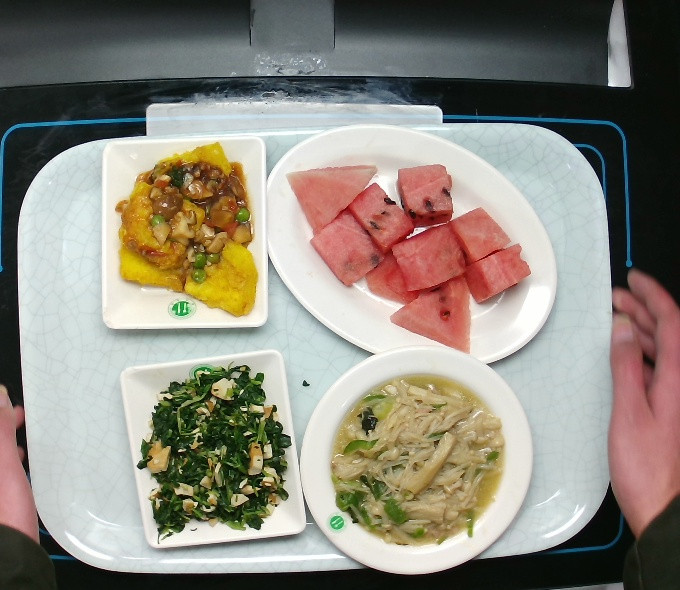wcq-CuiPiDouFu: (114, 141, 259, 317)
wcq-JinZhenGu: (329, 367, 506, 548)
wcq-MaLanTouChaoDouGan: (141, 361, 294, 539)
wcq-XiGua: (284, 162, 531, 356)
